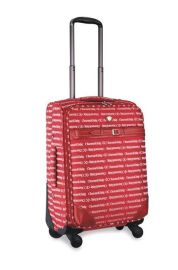luggage: (43, 14, 152, 251)
